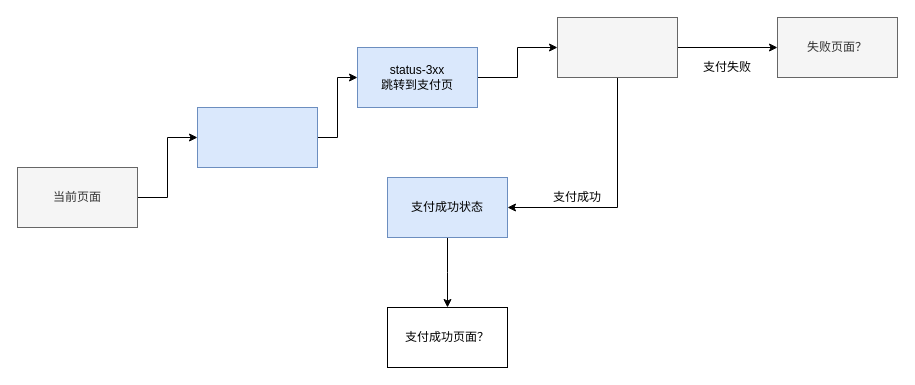
Image size: 915x385. Some labels were removed from this diagram. The shapes that lost their labels are listed below. From the top down, each one's centre as x and y in pixels, then its label:
the point at 617,47: 支付页
the point at 257,137: 支付请求 /api/pay/alipay 带订单号和价格
